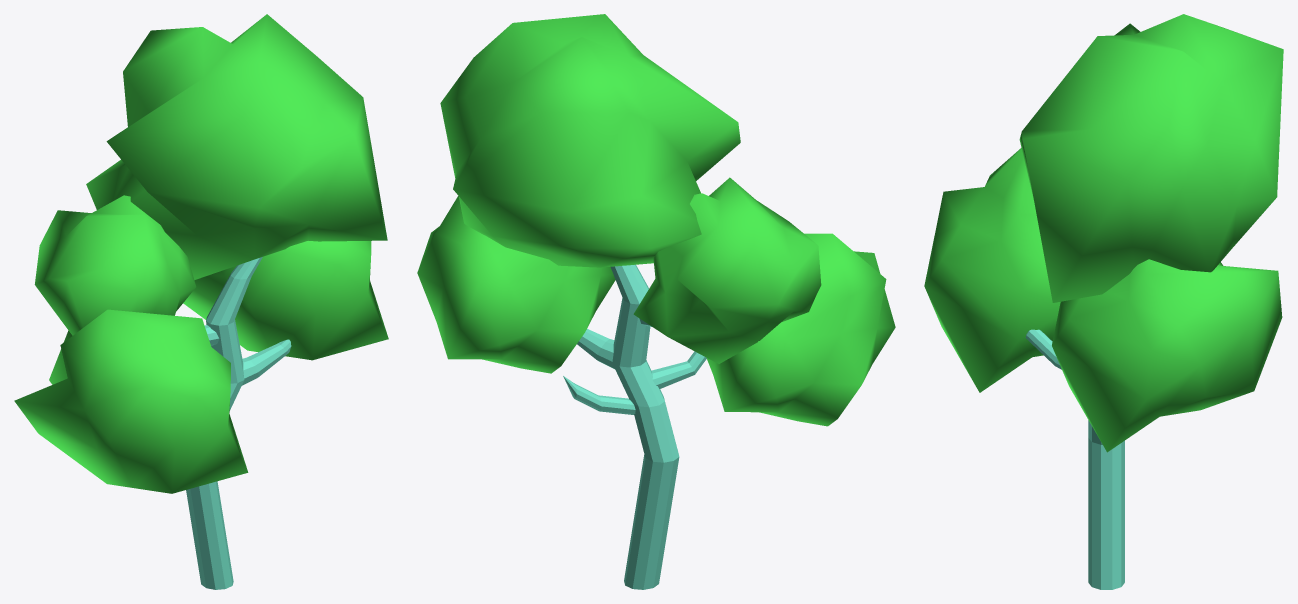
Rendered from Arvore 3.fbx.
3 views of the same model, side by side, from view 1: azimuth 30°, elevation 25°; view 2: azimuth 150°, elevation 25°; view 3: azimuth 270°, elevation 25° (orthographic). The views are drawn at different scales.
Parts seen in each view (by area): view 1: Icosphere.010, Icosphere.009, Icosphere.012, Icosphere.011, Arvore 3; view 2: Icosphere.010, Icosphere.011, Icosphere.012, Icosphere.009, Arvore 3; view 3: Icosphere.010, Icosphere.012, Icosphere.009, Arvore 3.
Boxes of the visible parts, x1,y1,x2,y2 form: Icosphere.010: (86, 14, 387, 279); Icosphere.009: (14, 309, 248, 493); Icosphere.012: (183, 241, 388, 360); Icosphere.011: (34, 195, 196, 335); Arvore 3: (186, 257, 291, 589); Icosphere.010: (440, 14, 740, 267); Icosphere.011: (633, 177, 821, 363); Icosphere.012: (417, 196, 615, 373); Icosphere.009: (706, 233, 895, 426); Arvore 3: (563, 264, 706, 589); Icosphere.010: (1019, 14, 1283, 302); Icosphere.012: (1052, 259, 1282, 452); Icosphere.009: (924, 148, 1060, 392); Arvore 3: (1025, 329, 1124, 589).
Bounding box in the file's own units: 310 × 411 × 231.
